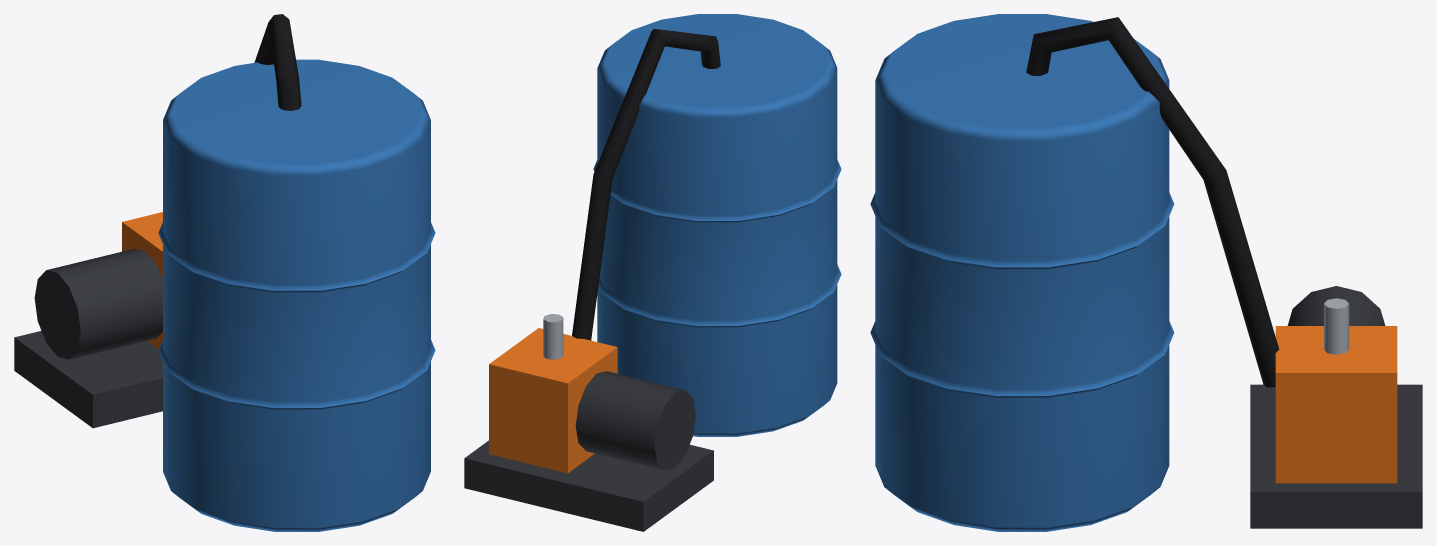
File: RigPump.obj
3 views of the same model, side by side, from view 1: azimuth 30°, elevation 25°; view 2: azimuth 150°, elevation 25°; view 3: azimuth 270°, elevation 25° (orthographic). The views are drawn at different scales.
Parts seen in each view (by area): view 1: RigPump; view 2: RigPump; view 3: RigPump.
Part boxes in pixels (left/top/right/bottom): RigPump: left=14, top=14, right=435, bottom=531; RigPump: left=464, top=14, right=841, bottom=531; RigPump: left=870, top=14, right=1422, bottom=531.
Bounding box in the file's own units: 0.5909 × 1.02 × 1.09.
